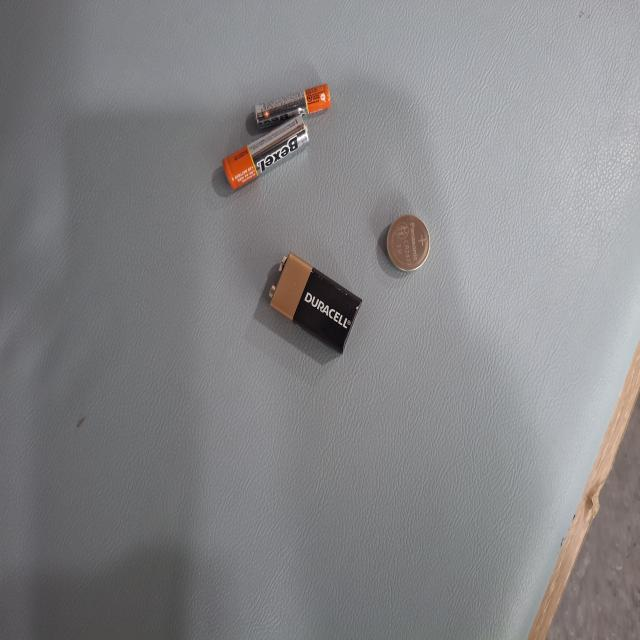9V: (277, 284, 371, 387)
AA: (330, 450, 420, 520)
AAA: (310, 508, 390, 554)
COIN: (210, 367, 254, 425)
